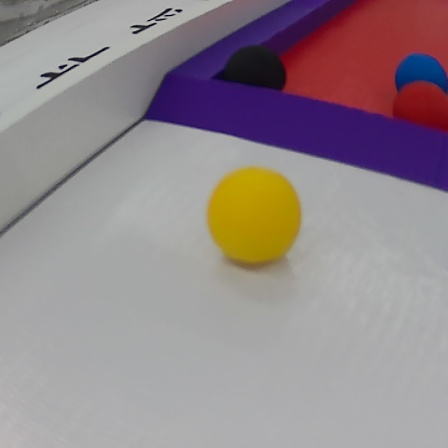black: (228, 44, 288, 98)
blue: (394, 52, 448, 93)
red: (393, 80, 448, 134)
red_aim: (145, 0, 448, 195)
yellow: (199, 167, 304, 272)
